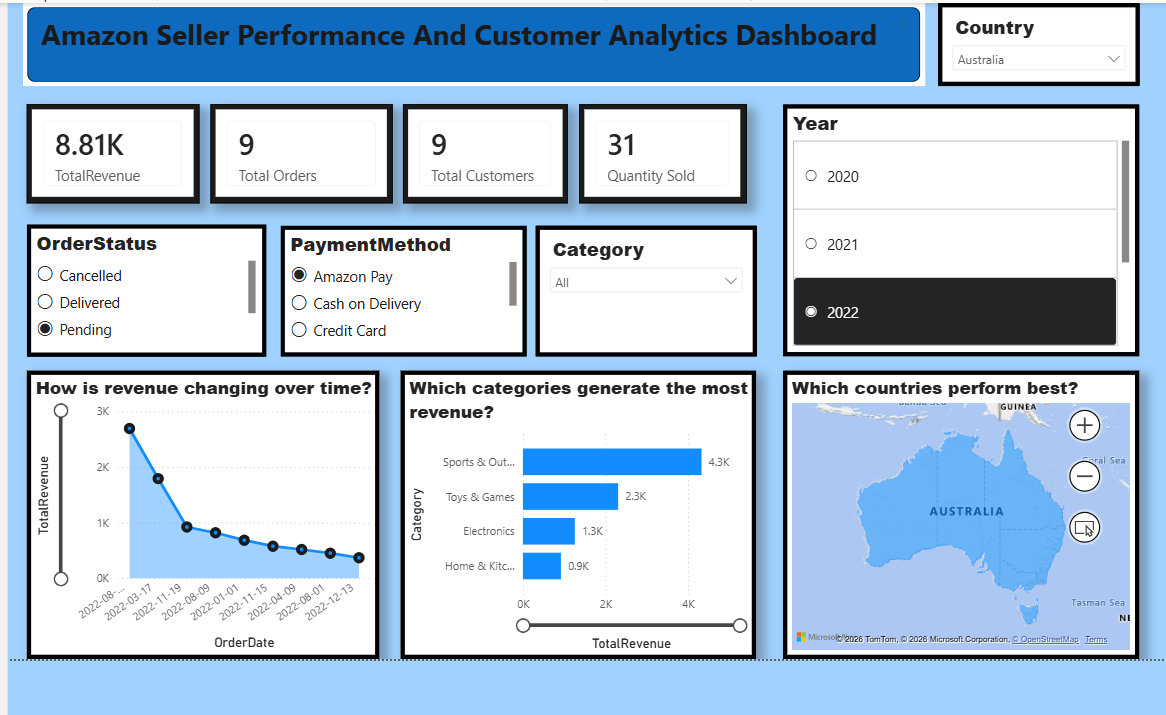

This screenshot's page, from the dashboard's own definition file:
{"tool":"powerbi","page":{"name":"Executive Dashboard","canvas":[1280,720],"ordinal":0},"visuals":[{"type":"cardVisual","fields":{"Data":["amazonanalytics amazonsales.TotalRevenue"]},"box":[20.6,111.1,189.4,108.4],"z":0},{"type":"textSlicer","box":[17.1,0,990,91.4],"z":1000},{"type":"cardVisual","fields":{"Data":["amazonanalytics amazonsales.Total Orders"]},"box":[221.8,111.1,200.3,108.4],"z":2000},{"type":"cardVisual","fields":{"Data":["amazonanalytics amazonsales.Total Customers"]},"box":[434.1,111.1,181.1,108.4],"z":3000},{"type":"cardVisual","fields":{"Data":["amazonanalytics amazonsales.Quantity Sold"]},"box":[627.1,111.1,183.9,108.4],"z":4000},{"type":"lineChart","title":"How is revenue changing over time?","fields":{"Category":["amazonanalytics amazonsales.OrderDate"],"Y":["amazonanalytics amazonsales.TotalRevenue"]},"box":[20,402.9,387.1,317.1],"z":5000},{"type":"clusteredBarChart","title":"Which categories generate the most revenue?","fields":{"Category":["amazonanalytics amazonsales.Category"],"Y":["amazonanalytics amazonsales.TotalRevenue"]},"box":[431.4,402.9,390,317.1],"z":6000},{"type":"filledMap","title":"Which countries perform best?","fields":{"Category":["amazonanalytics amazonsales.Country"]},"box":[851.4,402.9,391.4,317.1],"z":7000},{"type":"advancedSlicerVisual","fields":{"Values":["amazonanalytics amazonsales.OrderDate_New.Variation.Date Hierarchy.Year"]},"box":[851.4,111.4,391.4,277.1],"z":8000},{"type":"listSlicer","fields":{"Values":["amazonanalytics amazonsales.OrderStatus"]},"box":[20,242.9,262.9,145.7],"z":9000},{"type":"listSlicer","fields":{"Values":["amazonanalytics amazonsales.PaymentMethod"]},"box":[298.6,244.3,270,144.3],"z":10000},{"type":"slicer","fields":{"Values":["amazonanalytics amazonsales.Category"]},"box":[578.6,244.3,242.9,144.3],"z":11000},{"type":"slicer","fields":{"Values":["amazonanalytics amazonsales.Country"]},"box":[1021.4,0,221.4,91.4],"z":12000}]}

Visuals, with their boxes in screenshot pixels (x1, y1, x2, y2):
cardVisual - amazonanalytics amazonsales.TotalRevenue: {"x1": 34, "y1": 103, "x2": 204, "y2": 200}
textSlicer: {"x1": 31, "y1": 3, "x2": 920, "y2": 85}
cardVisual - amazonanalytics amazonsales.Total Orders: {"x1": 214, "y1": 103, "x2": 394, "y2": 200}
cardVisual - amazonanalytics amazonsales.Total Customers: {"x1": 405, "y1": 103, "x2": 568, "y2": 200}
cardVisual - amazonanalytics amazonsales.Quantity Sold: {"x1": 579, "y1": 103, "x2": 744, "y2": 200}
"How is revenue changing over time?" lineChart: {"x1": 33, "y1": 365, "x2": 381, "y2": 650}
"Which categories generate the most revenue?" clusteredBarChart: {"x1": 403, "y1": 365, "x2": 753, "y2": 650}
"Which countries perform best?" filledMap: {"x1": 780, "y1": 365, "x2": 1132, "y2": 650}
advancedSlicerVisual - amazonanalytics amazonsales.OrderDate_New.Variation.Date Hierarchy.Year: {"x1": 780, "y1": 103, "x2": 1132, "y2": 352}
listSlicer - amazonanalytics amazonsales.OrderStatus: {"x1": 33, "y1": 221, "x2": 269, "y2": 352}
listSlicer - amazonanalytics amazonsales.PaymentMethod: {"x1": 283, "y1": 223, "x2": 526, "y2": 352}
slicer - amazonanalytics amazonsales.Category: {"x1": 535, "y1": 223, "x2": 753, "y2": 352}
slicer - amazonanalytics amazonsales.Country: {"x1": 933, "y1": 3, "x2": 1132, "y2": 85}
